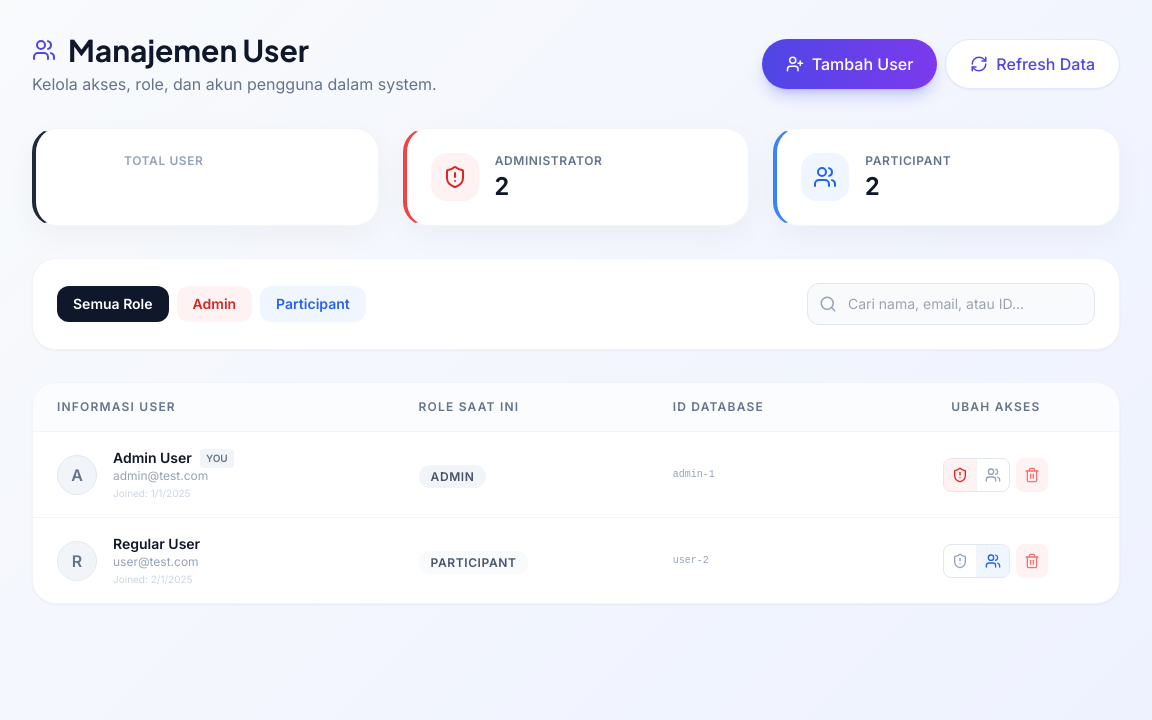
Test: UserManagement Page › filters users by search
The width and height of the screenshot is (1152, 720).
Check: the text "Admin User" is shown, box [113, 448, 192, 468]
Step 1. Type "Regular" into the field with placeholder "Cari nama, email, atau ID..." → (951,304), box [807, 283, 1095, 325]
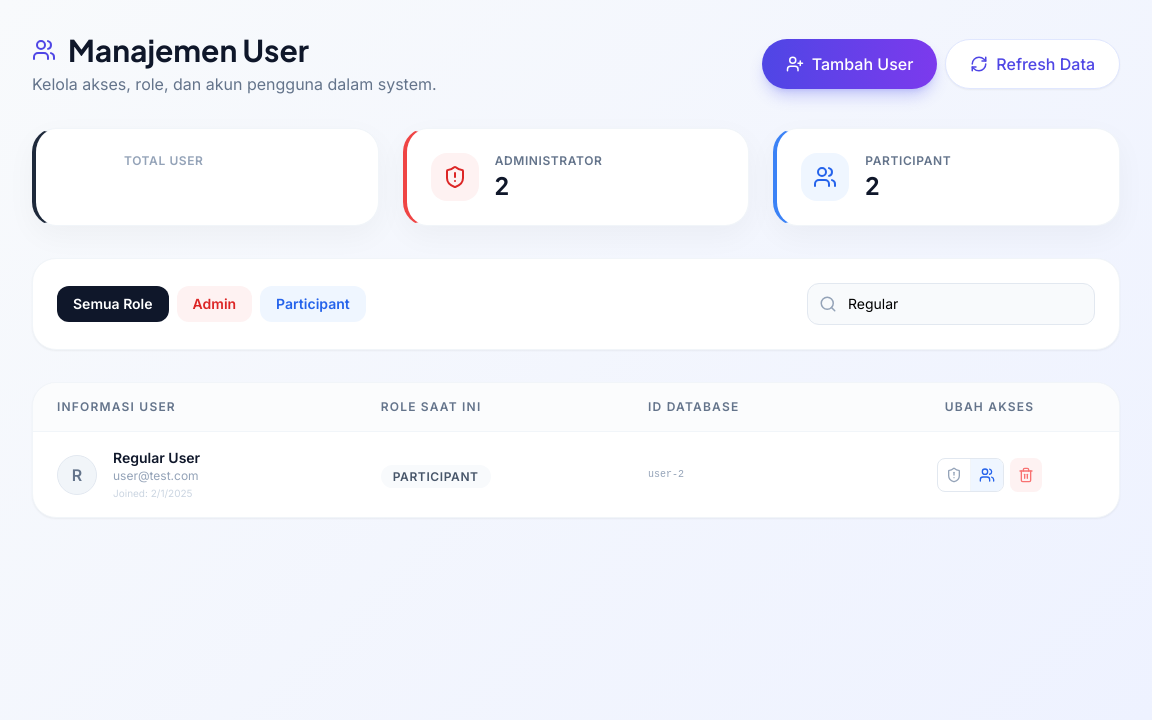
Check: the text "Regular User" is shown, box [113, 448, 200, 468]
Check: the text "Admin User" is gone
